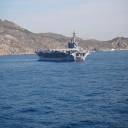Portanaves: (33, 30, 94, 64)
